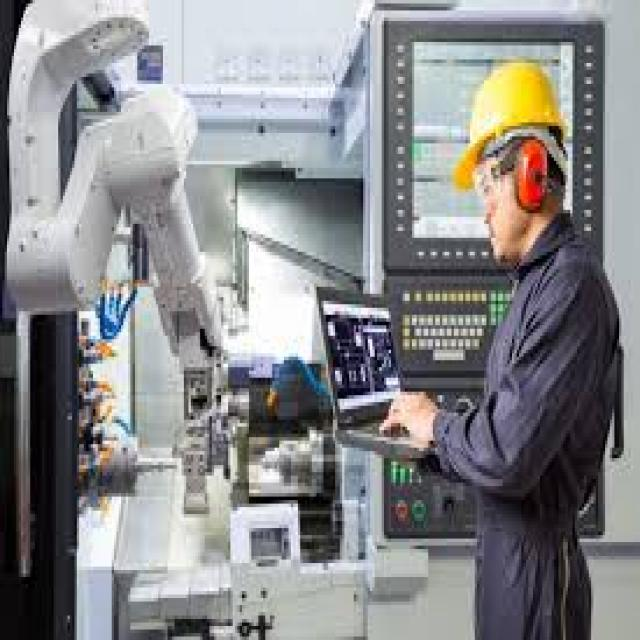Safety-Helmet: (449, 49, 573, 189)
